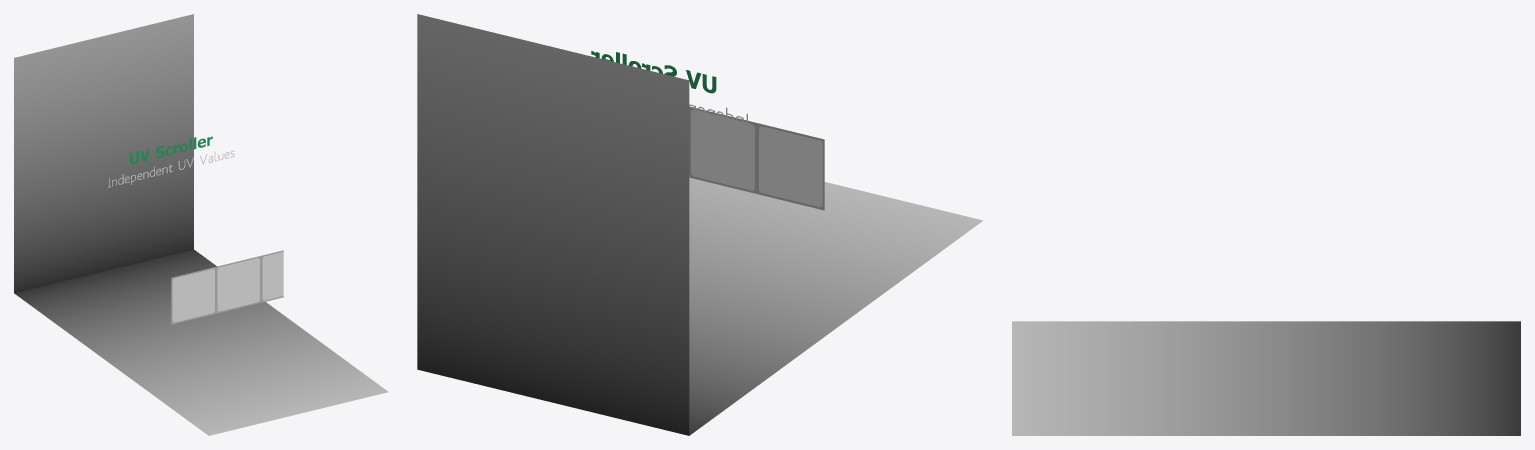
File: UV Scroller.FBX
The picture shows the model from 3 angles, left to right: view 1: azimuth 30°, elevation 25°; view 2: azimuth 150°, elevation 25°; view 3: azimuth 270°, elevation 25°; orthographic projection. The views are drawn at different scales.
Visible parts, largest first — view 1: Background 3, Plane005, Text007, Text008; view 2: Background 3, Plane005, Text007; view 3: Background 3.
Boxes of the visible parts, left/top/right/bottom form: Background 3: left=14, top=14, right=388, bottom=435; Plane005: left=171, top=250, right=283, bottom=324; Text007: left=130, top=136, right=212, bottom=164; Text008: left=108, top=150, right=234, bottom=187; Background 3: left=417, top=14, right=983, bottom=435; Plane005: left=689, top=106, right=824, bottom=210; Text007: left=591, top=51, right=716, bottom=93; Background 3: left=1012, top=321, right=1520, bottom=435.
Bounding box in the file's own units: 8 × 10 × 15.
